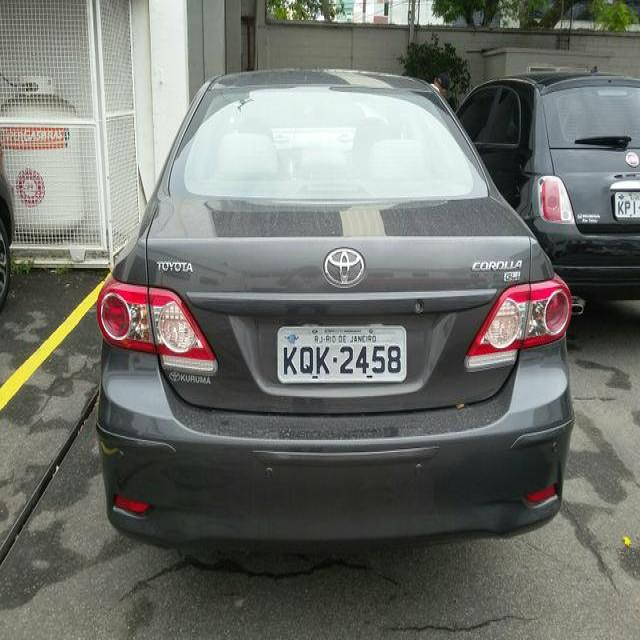Placa: (276, 321, 410, 385)
